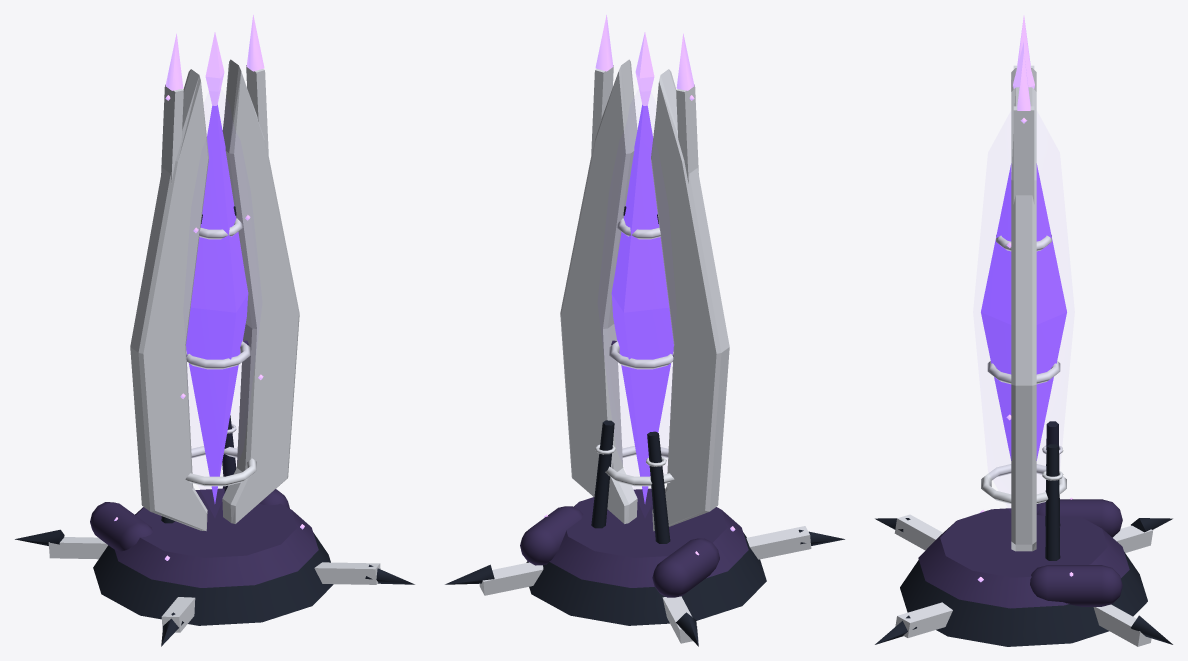
Rendered from sounding-spire-hadron.glb.
3 views of the same model, side by side, from view 1: azimuth 30°, elevation 25°; view 2: azimuth 150°, elevation 25°; view 3: azimuth 270°, elevation 25° (orthographic).
Visible parts, largest first — view 1: frame_blade_l, frame_blade_r, crystal_core, plinth_cap, plinth, ballast_tank_l, tuning_horn_l, anchor_leg_0, anchor_leg_3, resonance_collar_0, tuning_horn_r, crystal_apex (+3 smaller); view 2: frame_blade_l, frame_blade_r, crystal_core, plinth_cap, plinth, ballast_tank_l, ballast_tank_r, tuning_horn_l, ballast_pipe_l, anchor_leg_2, ballast_pipe_r, anchor_leg_1 (+6 smaller); view 3: plinth_cap, frame_blade_r, crystal_core, plinth, ballast_tank_r, tuning_horn_r, ballast_tank_l, ballast_pipe_r, anchor_leg_0, anchor_leg_1, anchor_leg_2, resonance_collar_0 (+4 smaller).
Part boxes in pixels (x1,y1,x2,y2): frame_blade_l: (130,69,208,531); frame_blade_r: (222,59,299,523); crystal_core: (186,104,248,503); plinth_cap: (115,488,318,587); plinth: (93,532,333,625); ballast_tank_l: (90,502,153,551); tuning_horn_l: (161,84,183,183); anchor_leg_0: (314,562,380,584); anchor_leg_3: (48,537,107,559); resonance_collar_0: (185,446,256,486); tuning_horn_r: (246,65,268,159); crystal_apex: (205,32,224,105); frame_blade_l: (651,69,729,531); frame_blade_r: (560,59,637,523); crystal_core: (611,104,673,503); plinth_cap: (549,488,748,587); plinth: (526,532,766,625); ballast_tank_l: (652,538,719,597); ballast_tank_r: (520,506,583,565); tuning_horn_l: (676,84,698,183); ballast_pipe_l: (647,431,670,543); anchor_leg_2: (746,526,811,559); ballast_pipe_r: (591,420,614,528); anchor_leg_1: (479,562,543,595); plinth_cap: (918,508,1129,608); frame_blade_r: (1011,87,1036,551); crystal_core: (981,163,1066,460); plinth: (900,552,1147,646); ballast_tank_r: (1030,565,1122,606); tuning_horn_r: (1013,106,1034,203); ballast_tank_l: (1036,499,1122,537); ballast_pipe_r: (1045,444,1060,560); anchor_leg_0: (895,602,952,637); anchor_leg_1: (1093,604,1151,646); anchor_leg_2: (894,514,942,550); resonance_collar_0: (981,464,1066,503).
Size of the model in its own units: 128 by 265 by 128.
